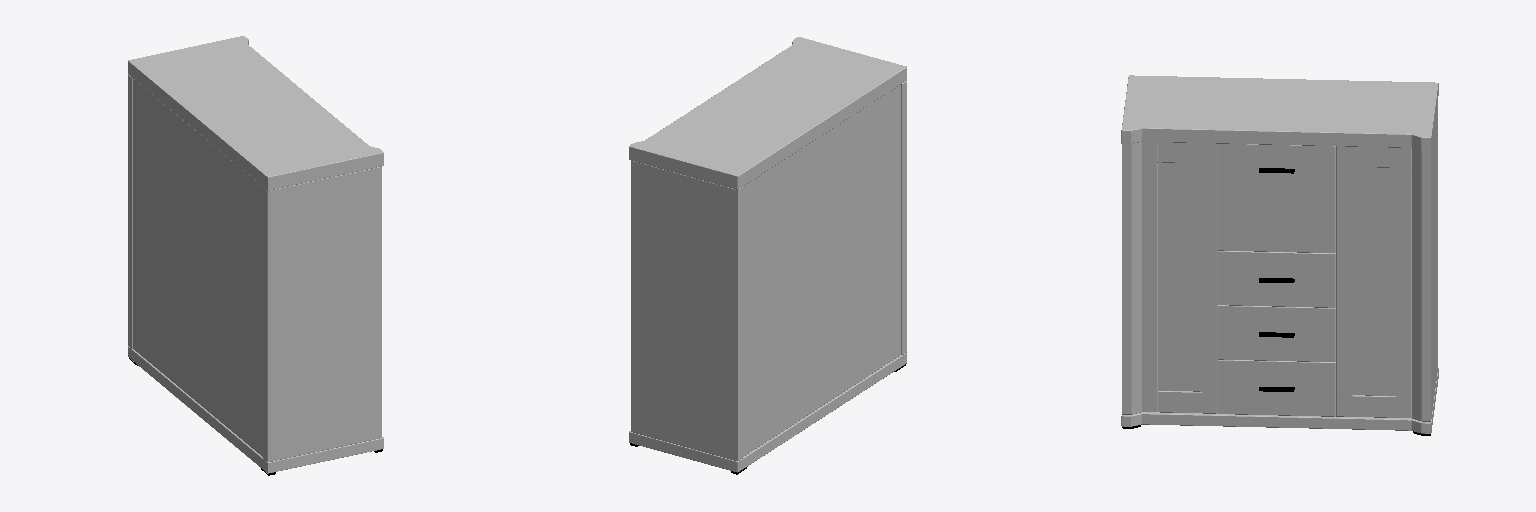
File: Cajon.obj
3 renders of one model, left to right at view 1: azimuth 30°, elevation 25°; view 2: azimuth 150°, elevation 25°; view 3: azimuth 270°, elevation 25°, orthographic.
Visible parts, largest first — view 1: Sideboard_buffet; view 2: Sideboard_buffet; view 3: Sideboard_buffet.
Boxes of the visible parts, <box> form: Sideboard_buffet: <box>128,36,383,475</box>; Sideboard_buffet: <box>629,37,906,474</box>; Sideboard_buffet: <box>1121,75,1438,435</box>.
Bounding box in the file's own units: 0.837 × 1.87 × 1.8.